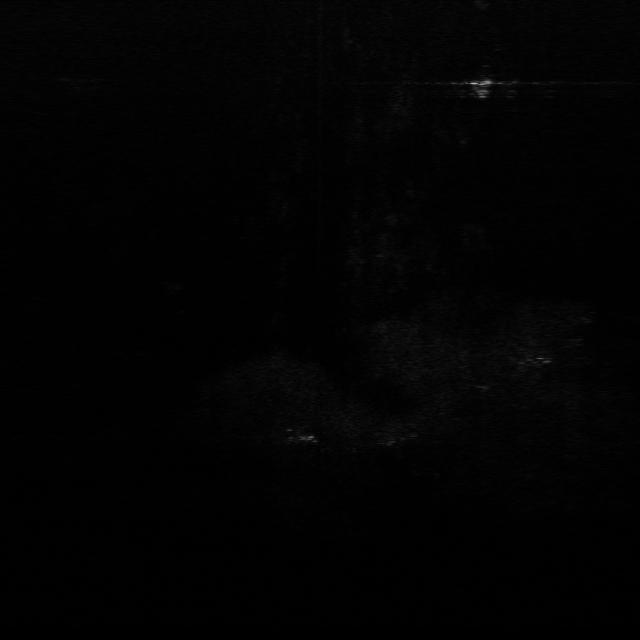rov: (467, 77, 501, 102)
